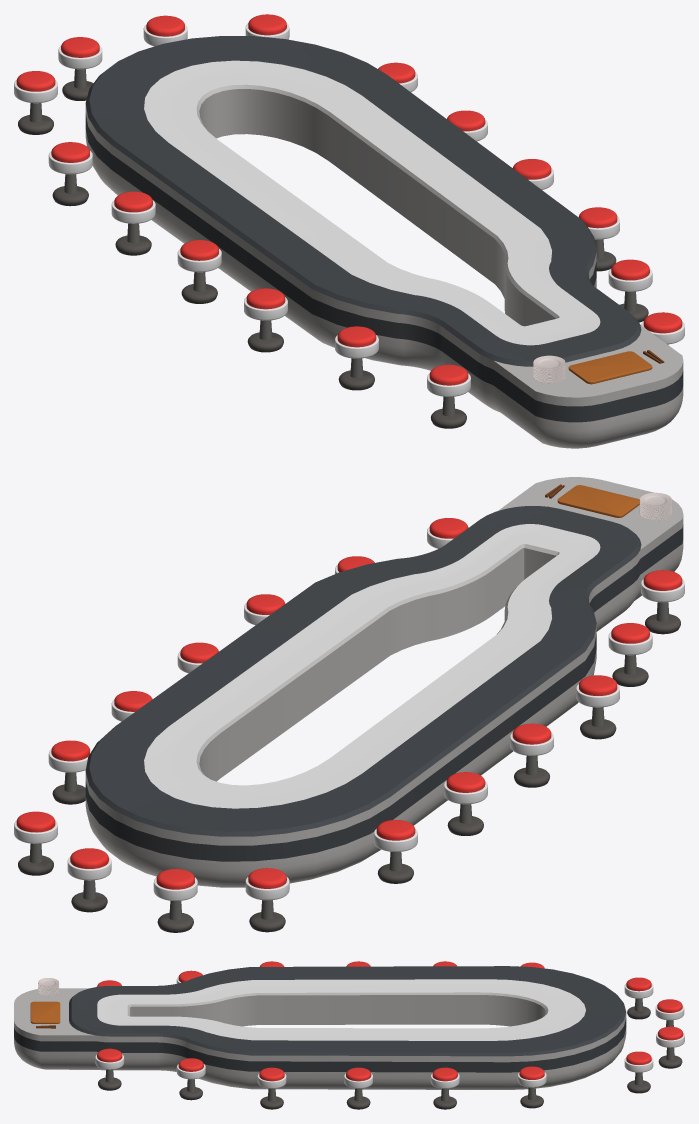
Rendered from sahne (10).fbx.
3 views of the same model, one above another, from view 1: azimuth 30°, elevation 25°; view 2: azimuth 150°, elevation 25°; view 3: azimuth 270°, elevation 25° (orthographic). The views are drawn at different scales.
Visible parts, largest first — view 1: Alt Kısım, Üst Ray, Üst Ray.001, Sandalyeler, Tahta, Tabak.007; view 2: Alt Kısım, Üst Ray, Üst Ray.001, Sandalyeler, Tahta, Tabak.007; view 3: Alt Kısım, Üst Ray, Üst Ray.001, Sandalyeler, Tahta, Tabak.007.
Boxes of the visible parts, left/top/right/bottom form: Alt Kısım: left=85, top=84, right=683, bottom=448; Üst Ray: left=85, top=36, right=641, bottom=366; Üst Ray.001: left=144, top=60, right=600, bottom=345; Sandalyeler: left=14, top=14, right=684, bottom=428; Tahta: left=568, top=351, right=652, bottom=384; Tabak.007: left=533, top=355, right=565, bottom=383; Alt Kısım: left=85, top=477, right=683, bottom=887; Üst Ray: left=85, top=506, right=641, bottom=836; Üst Ray.001: left=144, top=524, right=600, bottom=808; Sandalyeler: left=14, top=518, right=684, bottom=932; Tahta: left=557, top=485, right=639, bottom=517; Tabak.007: left=639, top=492, right=671, bottom=520; Alt Kısım: left=14, top=988, right=626, bottom=1089; Üst Ray: left=69, top=966, right=625, bottom=1056; Üst Ray.001: left=97, top=979, right=585, bottom=1040; Sandalyeler: left=95, top=961, right=684, bottom=1109; Tahta: left=30, top=1001, right=60, bottom=1023; Tabak.007: left=38, top=978, right=58, bottom=995.
Size of what is drawn, in the model's own units: 4.74 by 0.9817 by 11.35.
